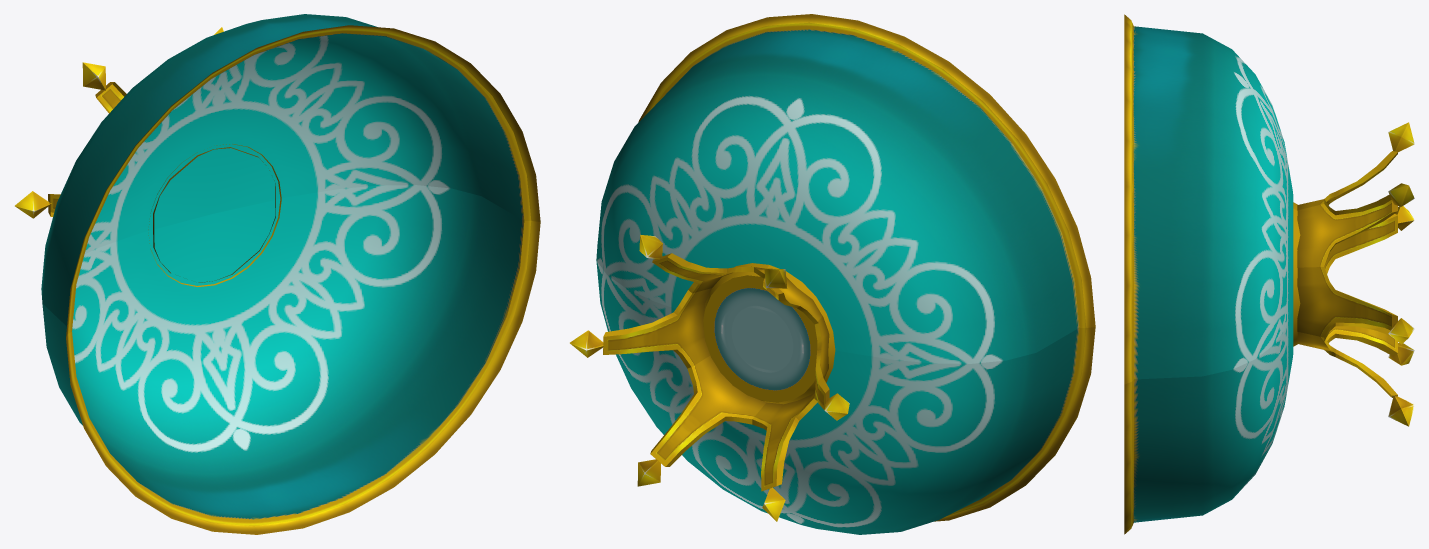
File: JewelryBox_Wheel.fbx
3 renders of one model, left to right at view 1: azimuth 30°, elevation 25°; view 2: azimuth 150°, elevation 25°; view 3: azimuth 270°, elevation 25°, orthographic. The views are drawn at different scales.
Parts seen in each view (by area): view 1: JewelryBox_Wheel2; view 2: JewelryBox_Wheel2; view 3: JewelryBox_Wheel2.
Part boxes in pixels (x1=…): JewelryBox_Wheel2: x1=15, y1=14, x2=540, y2=534; JewelryBox_Wheel2: x1=570, y1=14, x2=1095, y2=534; JewelryBox_Wheel2: x1=1124, y1=14, x2=1414, y2=534.
Size of the model in its own units: 555 by 555 by 309.
